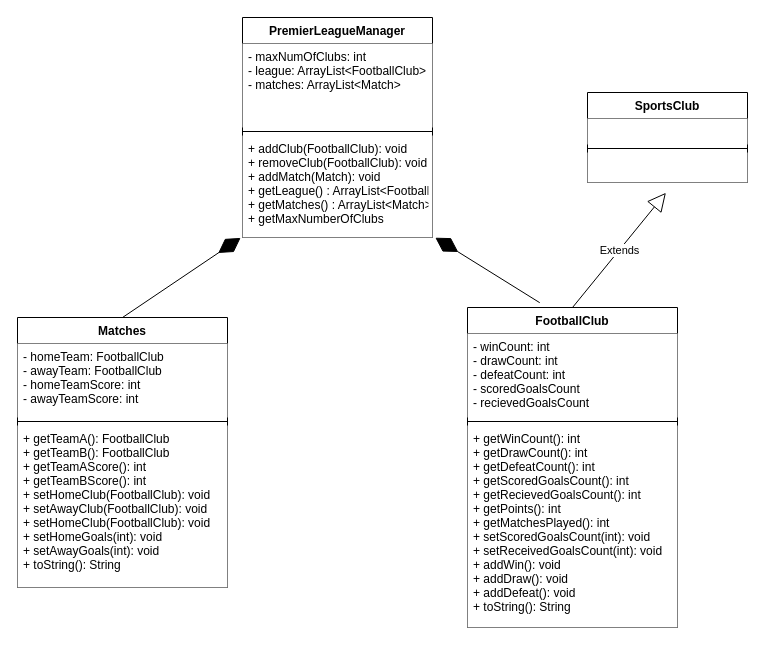
Some shapes in this 765 by 648 pixel diagram are drawn without their labels. The shapes that lost their labels are listed below. From the top down, each one's centre as x and y in pixels, then its label:
At (667,131): "- name: String".
At (667,167): "+ equals(Object): boolean".
